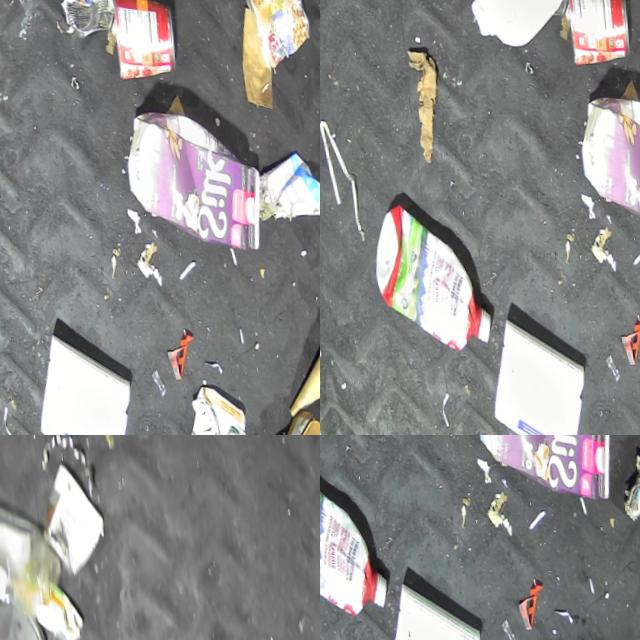can: (107, 0, 178, 81), (240, 0, 313, 68), (561, 0, 632, 66), (53, 0, 117, 39)
milk_jug: (453, 0, 581, 50)
non_white_jug: (118, 96, 264, 255), (363, 197, 489, 355), (571, 81, 640, 240), (172, 382, 251, 435)
